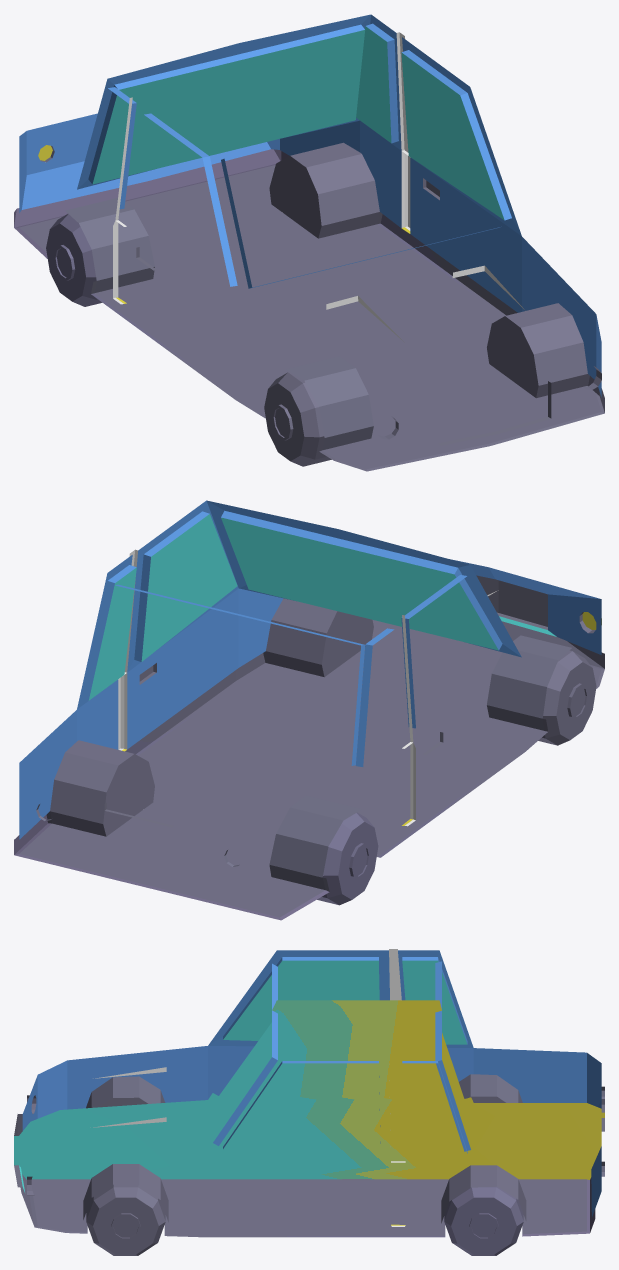
File: basic-car.glb
The picture shows the model from 3 angles, top to bottom: view 1: azimuth 30°, elevation 25°; view 2: azimuth 150°, elevation 25°; view 3: azimuth 270°, elevation 25°; orthographic projection. The views are drawn at different scales.
Visible parts, largest first — view 1: Car_Cube, FrontWheels_Cylinder.003, BackWheels_Cylinder.006; view 2: Car_Cube, FrontWheels_Cylinder.003, BackWheels_Cylinder.006; view 3: Car_Cube, FrontWheels_Cylinder.003, BackWheels_Cylinder.006.
Boxes of the visible parts, x1=… form: Car_Cube: x1=14, y1=14, x2=604, y2=471; FrontWheels_Cylinder.003: x1=264, y1=372, x2=331, y2=466; BackWheels_Cylinder.006: x1=46, y1=214, x2=102, y2=306; Car_Cube: x1=14, y1=500, x2=604, y2=920; FrontWheels_Cylinder.003: x1=538, y1=650, x2=596, y2=745; BackWheels_Cylinder.006: x1=317, y1=812, x2=378, y2=905; Car_Cube: x1=14, y1=949, x2=604, y2=1237; FrontWheels_Cylinder.003: x1=86, y1=1184, x2=165, y2=1255; BackWheels_Cylinder.006: x1=444, y1=1186, x2=523, y2=1255.
Bounding box in the file's own units: 2.01 × 1.58 × 4.2.
1 material, 1 textured.
